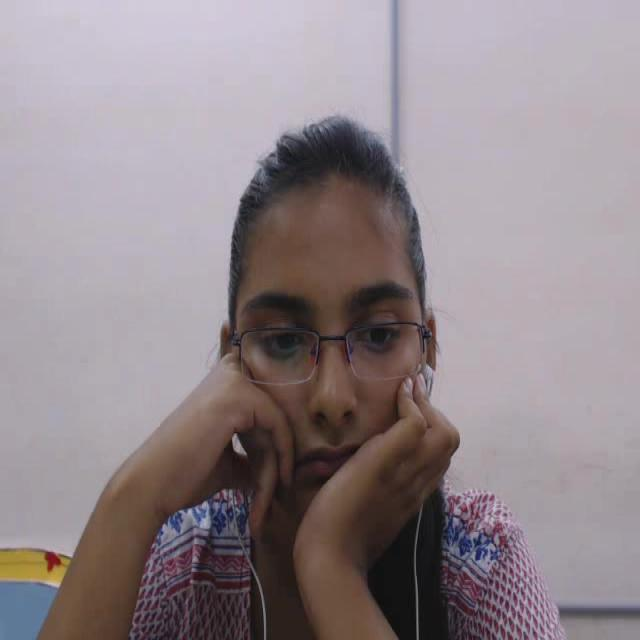Bored: (174, 96, 450, 562)
